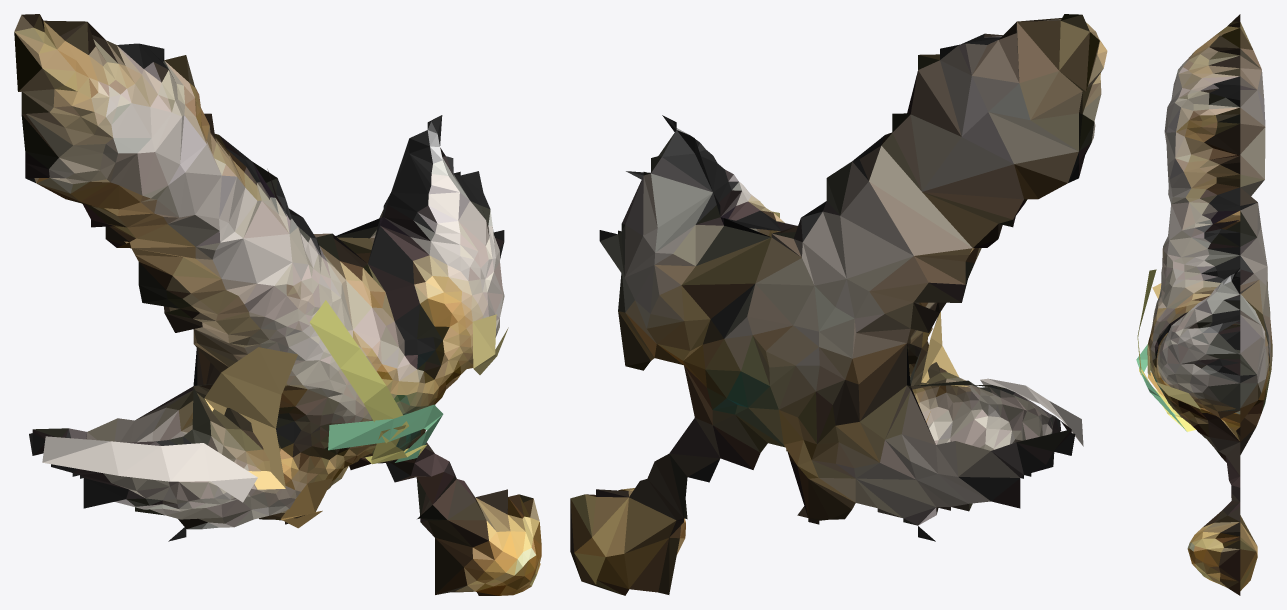
The picture shows the model from 3 angles, left to right: view 1: azimuth 30°, elevation 25°; view 2: azimuth 150°, elevation 25°; view 3: azimuth 270°, elevation 25°; orthographic projection. The views are drawn at different scales.
Parts seen in each view (by area): view 1: object 2, detail; view 2: object 2, detail; view 3: object 2, detail.
Part boxes in pixels (x1,y1,x2,y2): object 2: [14, 14, 541, 595]; detail: [42, 300, 508, 528]; object 2: [570, 14, 1107, 595]; detail: [772, 211, 1083, 446]; object 2: [1147, 14, 1272, 595]; detail: [1136, 269, 1200, 431].
Bounding box in the file's own units: 142 × 181 × 51.86.
